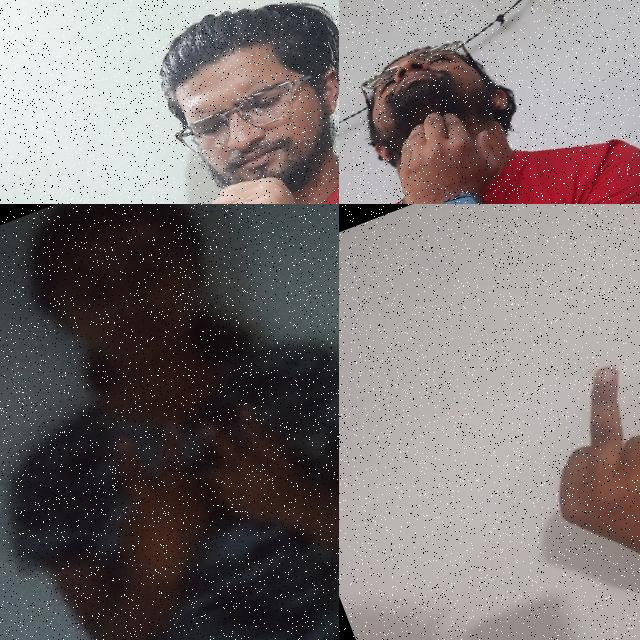Chin Flick: (339, 8, 546, 204)
Fist Mouth: (126, 0, 339, 204)
Middle Finger: (506, 321, 640, 602)
Reversed Victory: (72, 402, 245, 606), (170, 374, 335, 558)
